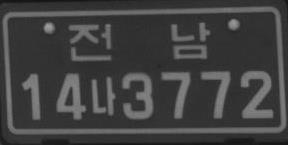1: (19, 72, 49, 121)
2: (240, 68, 274, 119)
3: (120, 70, 154, 120)
4: (55, 71, 86, 120)
7: (159, 70, 192, 120), (199, 69, 232, 119)
나: (89, 75, 117, 117)
전남_D: (67, 21, 210, 62)
